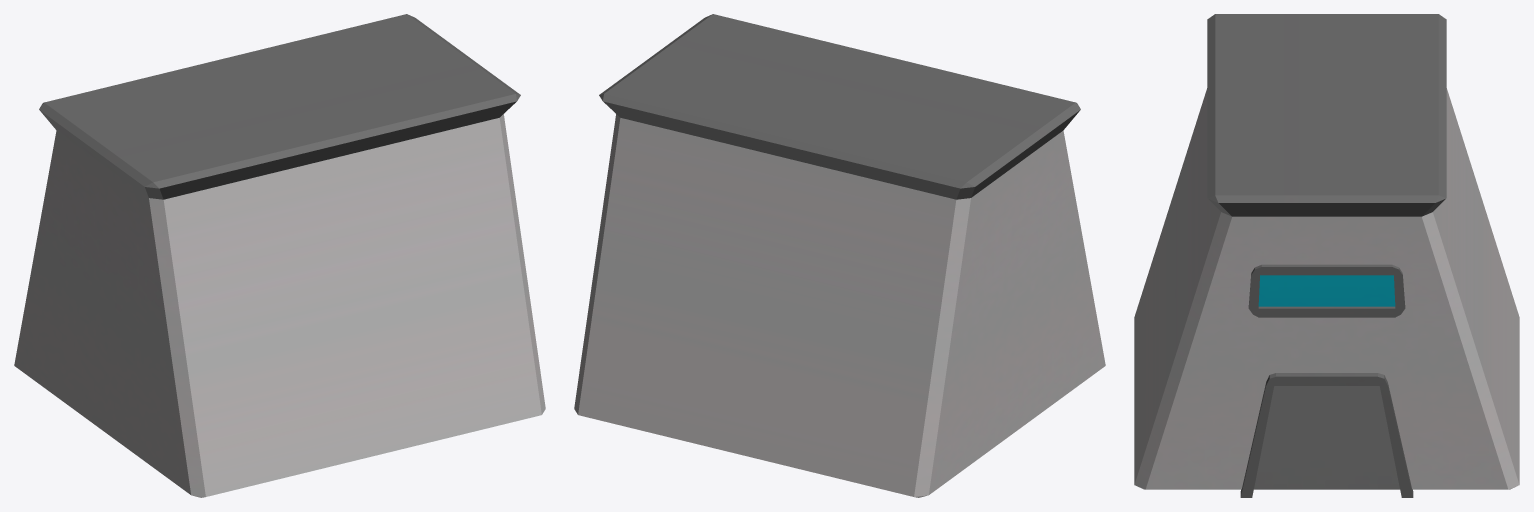
The model's file is casa 3.fbx.
3 renders of one model, left to right at view 1: azimuth 30°, elevation 25°; view 2: azimuth 150°, elevation 25°; view 3: azimuth 270°, elevation 25°, orthographic. The views are drawn at different scales.
Parts seen in each view (by area): view 1: estrutura; view 2: estrutura; view 3: estrutura, estrutura.001, estrutura.002.
Boxes of the visible parts, x1,y1,x2,y2 form: estrutura: (14,14,545,497); estrutura: (574,14,1105,497); estrutura: (1134,14,1519,489); estrutura.001: (1254,386,1399,489); estrutura.002: (1240,373,1413,497).
Size of the model in its own units: 806 by 600 by 697.
1 material, 1 textured.
